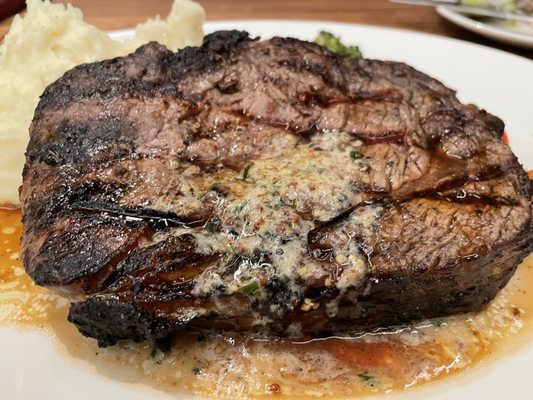curry: (315, 31, 364, 60)
